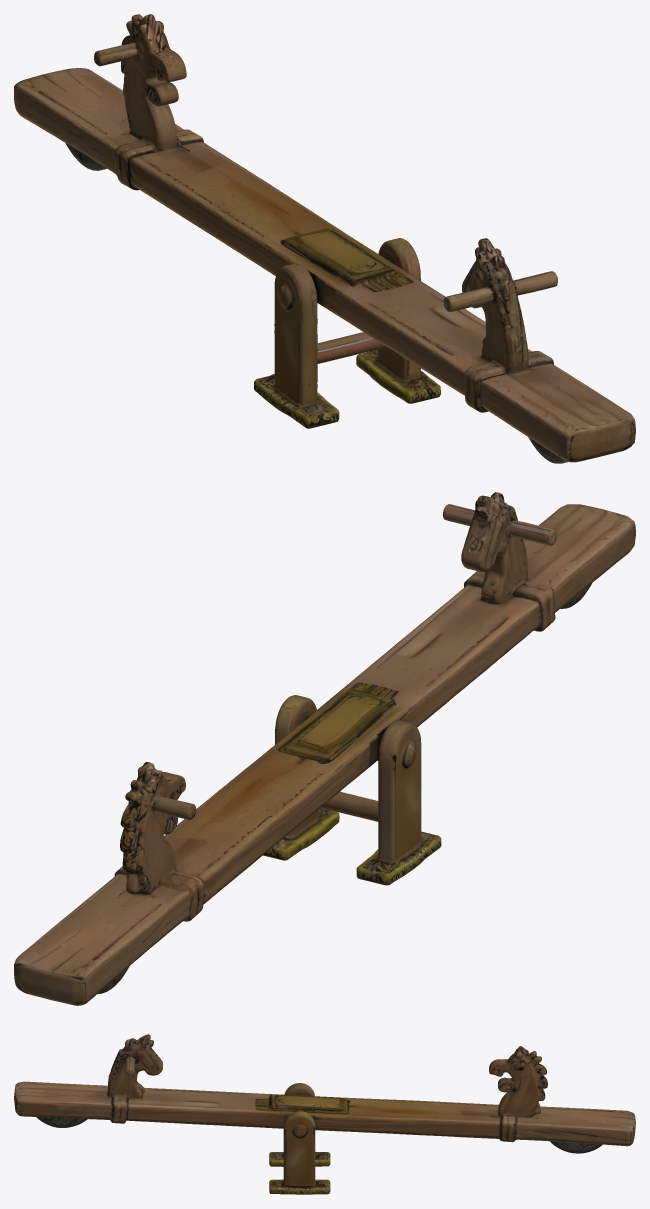
File: Seesaw.glb
The picture shows the model from 3 angles, top to bottom: view 1: azimuth 30°, elevation 25°; view 2: azimuth 150°, elevation 25°; view 3: azimuth 270°, elevation 25°; orthographic projection. The views are drawn at different scales.
Visible parts, largest first — view 1: tripo_node_d3c02ea0-2b44-46d4-8060-703fa022aa15; view 2: tripo_node_d3c02ea0-2b44-46d4-8060-703fa022aa15; view 3: tripo_node_d3c02ea0-2b44-46d4-8060-703fa022aa15.
Boxes of the visible parts, x1,y1,x2,y2 form: tripo_node_d3c02ea0-2b44-46d4-8060-703fa022aa15: (14,14,635,463); tripo_node_d3c02ea0-2b44-46d4-8060-703fa022aa15: (14,492,635,1005); tripo_node_d3c02ea0-2b44-46d4-8060-703fa022aa15: (14,1034,635,1194).
Size of the model in its own units: 0.1446 by 0.2506 by 1.
Materials: 1 (1 with a texture image).
